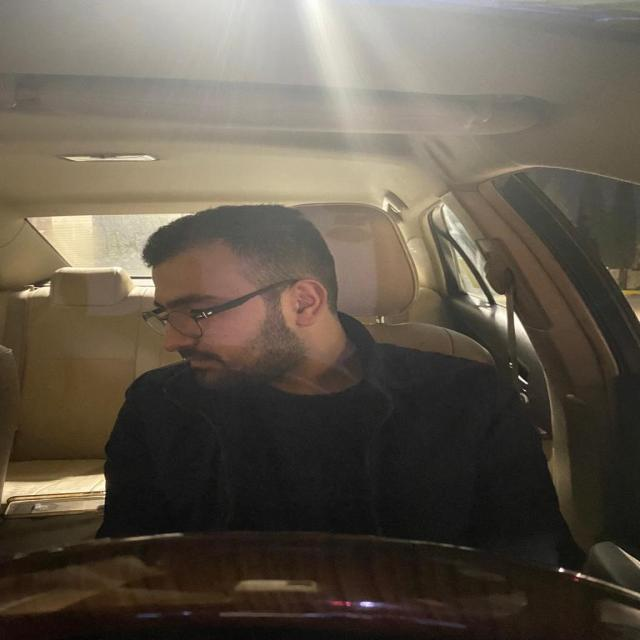person: (142, 206, 355, 404)
